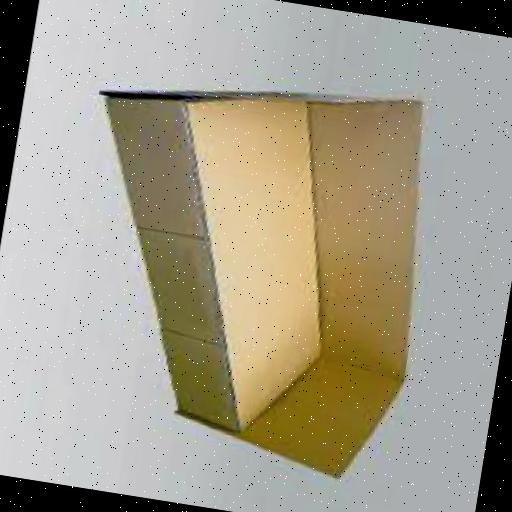cardboard: (46, 54, 448, 488)
